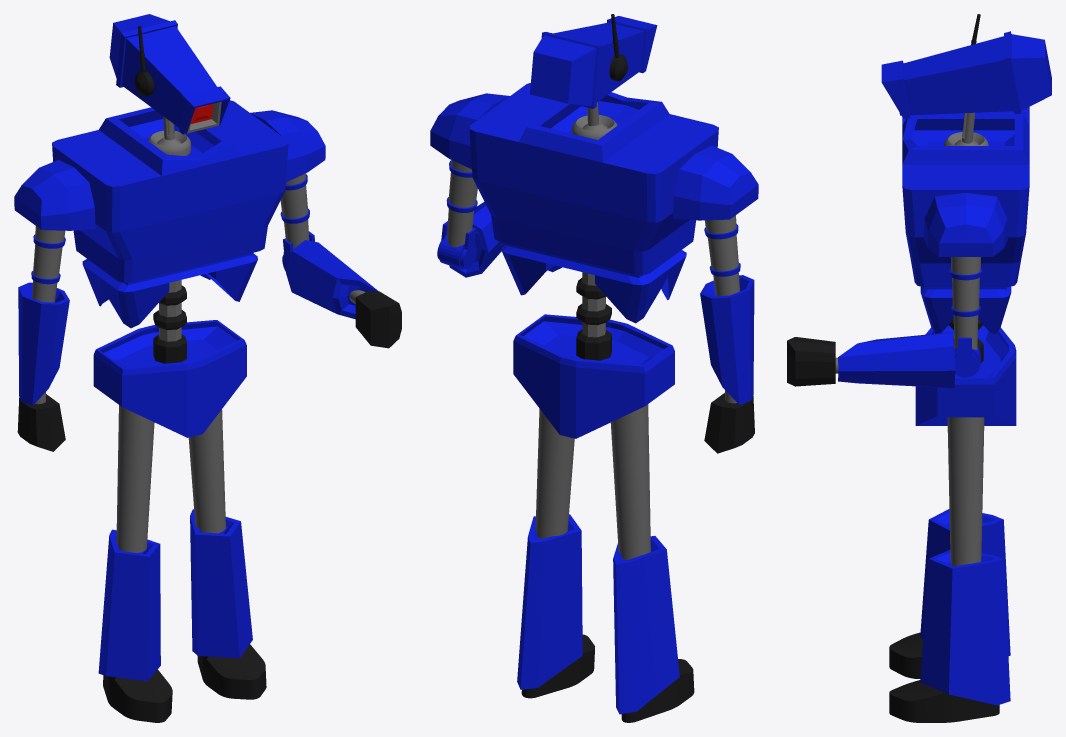
File: PM2_P1_Robot_Character_QRD_01.fbx
3 renders of one model, left to right at view 1: azimuth 30°, elevation 25°; view 2: azimuth 150°, elevation 25°; view 3: azimuth 270°, elevation 25°, orthographic. The views are drawn at different scales.
Visible parts, largest first — view 1: Torso; view 2: Torso; view 3: Torso.
Part boxes in pixels (bbox=[...]): Torso: bbox=[14, 14, 401, 722]; Torso: bbox=[430, 14, 758, 722]; Torso: bbox=[787, 14, 1051, 722].
Bounding box in the file's own units: 186 × 392 × 142.
